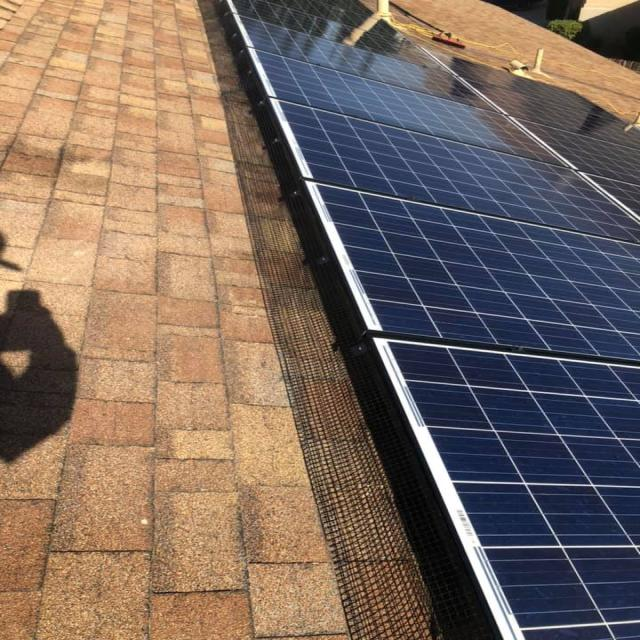clean-solar-panel: (227, 0, 637, 640)
